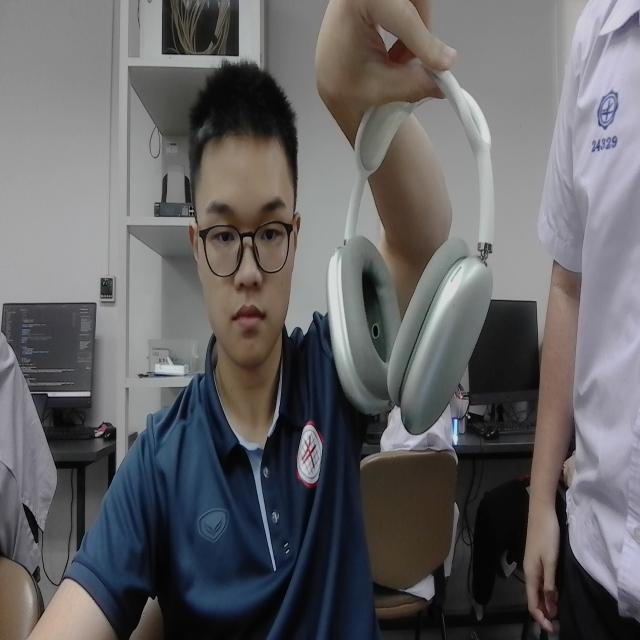airpods max: (316, 37, 506, 439)
